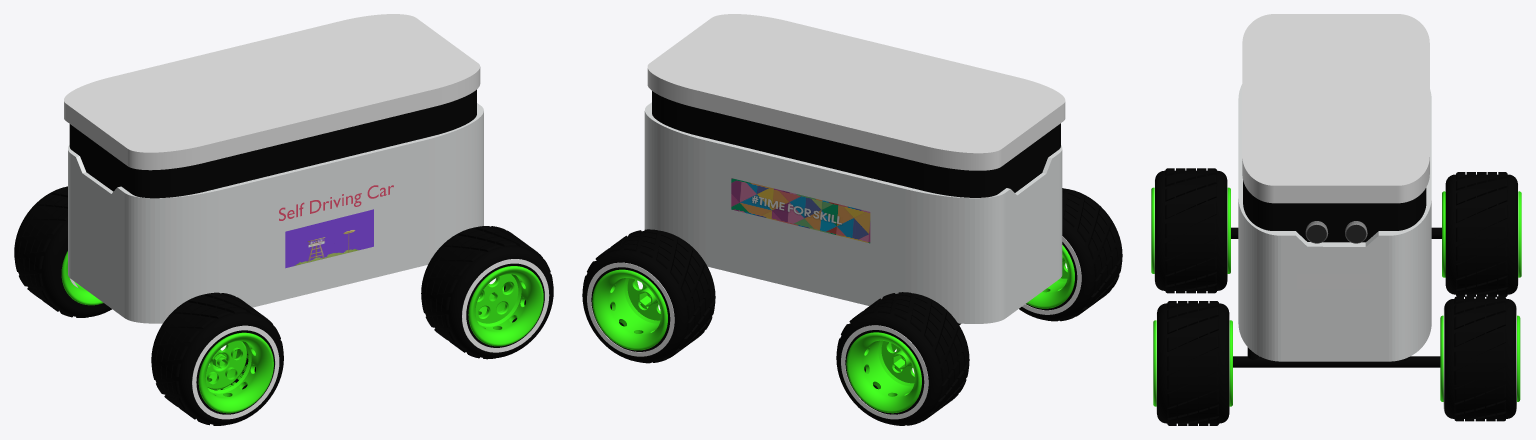
The model's file is selfDriving (1).glb.
The picture shows the model from 3 angles, left to right: view 1: azimuth 30°, elevation 25°; view 2: azimuth 150°, elevation 25°; view 3: azimuth 270°, elevation 25°; orthographic projection.
Visible parts, largest first — view 1: Cube, Cube.003, Cube.002, Object_7.002, Object_7, Object_7.003, Object_8.002, Object_8, Object_4.002, Object_4, Object_8.003, Object_5.002 (+6 smaller); view 2: Cube, Cube.003, Cube.002, Object_7.003, Object_7.001, Object_5.003, Object_5.001, Object_8.001, Object_7.002, Object_8.003, Object_8.002, Object_3.003 (+5 smaller); view 3: Cube.003, Cube, Object_7.001, Object_7.002, Object_7, Object_7.003, Cube.002, Object_8.003, Object_8.002, Object_8, Object_8.001, Cylinder.005 (+6 smaller).
Boxes of the visible parts, bbox=[...] form: Cube: bbox=[68, 103, 483, 323]; Cube.003: bbox=[64, 14, 480, 170]; Cube.002: bbox=[69, 89, 476, 198]; Object_7.002: bbox=[151, 292, 283, 425]; Object_7: bbox=[421, 226, 553, 359]; Object_7.003: bbox=[14, 186, 111, 317]; Object_8.002: bbox=[151, 293, 282, 414]; Object_8: bbox=[421, 226, 552, 344]; Object_4.002: bbox=[198, 332, 273, 413]; Object_4: bbox=[468, 266, 543, 346]; Object_8.003: bbox=[14, 187, 67, 306]; Object_5.002: bbox=[205, 341, 251, 393]; Cube: bbox=[644, 102, 1062, 323]; Cube.003: bbox=[647, 14, 1065, 170]; Cube.002: bbox=[652, 91, 1060, 197]; Object_7.003: bbox=[836, 293, 969, 425]; Object_7.001: bbox=[582, 230, 715, 363]; Object_5.003: bbox=[848, 336, 917, 410]; Object_5.001: bbox=[594, 273, 663, 347]; Object_8.001: bbox=[583, 229, 714, 351]; Object_7.002: bbox=[1019, 188, 1122, 321]; Object_8.003: bbox=[837, 292, 968, 412]; Object_8.002: bbox=[1062, 188, 1121, 309]; Object_3.003: bbox=[841, 325, 928, 419]; Cube.003: bbox=[1242, 14, 1429, 203]; Cube: bbox=[1238, 84, 1431, 361]; Object_7.001: bbox=[1444, 299, 1516, 421]; Object_7.002: bbox=[1155, 170, 1227, 293]; Object_7: bbox=[1157, 303, 1229, 425]; Object_7.003: bbox=[1445, 174, 1517, 296]; Cube.002: bbox=[1243, 180, 1426, 242]; Object_8.003: bbox=[1455, 172, 1508, 294]; Object_8.002: bbox=[1164, 168, 1217, 290]; Object_8: bbox=[1166, 301, 1219, 423]; Object_8.001: bbox=[1454, 296, 1506, 418]; Cylinder.005: bbox=[1233, 356, 1440, 367].
Size of the model in its own units: 4.54 by 2.85 by 3.83.
Materials: 13 (2 with a texture image).
